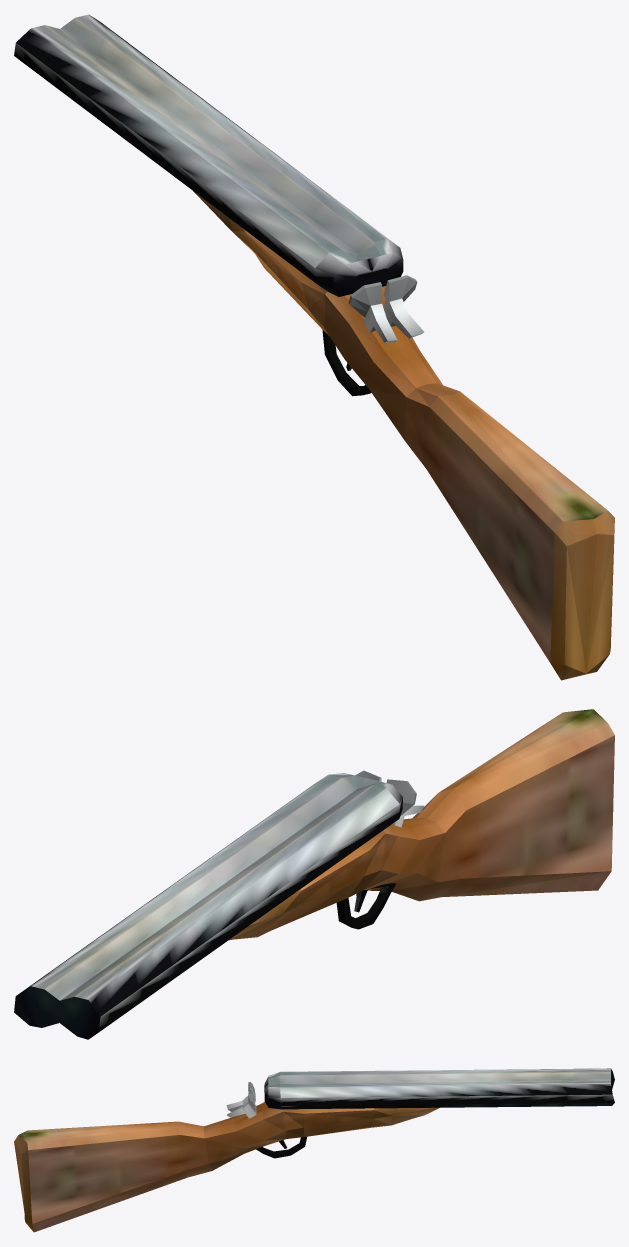
Rendered from shoot0038.obj.
The picture shows the model from 3 angles, top to bottom: view 1: azimuth 30°, elevation 25°; view 2: azimuth 150°, elevation 25°; view 3: azimuth 270°, elevation 25°; orthographic projection. The views are drawn at different scales.
Parts seen in each view (by area): view 1: Cube, Cube.001, Cube.003, Cube.002; view 2: Cube, Cube.001, Cube.002, Cube.003; view 3: Cube, Cube.001, Cube.003, Cube.002.
Part boxes in pixels (x1,y1,x2,y2): Cube: (193,191,614,680); Cube.001: (14,14,403,296); Cube.003: (348,275,424,342); Cube.002: (322,330,371,396); Cube: (229,709,614,940); Cube.001: (14,773,402,1039); Cube.002: (336,883,395,929); Cube.003: (355,770,423,827); Cube: (14,1102,439,1232); Cube.001: (264,1068,614,1109); Cube.003: (226,1082,256,1118); Cube.002: (256,1136,306,1158).
Bounding box in the file's own units: 0.206 × 0.6309 × 2.26.
Materials: 1 (1 with a texture image).
